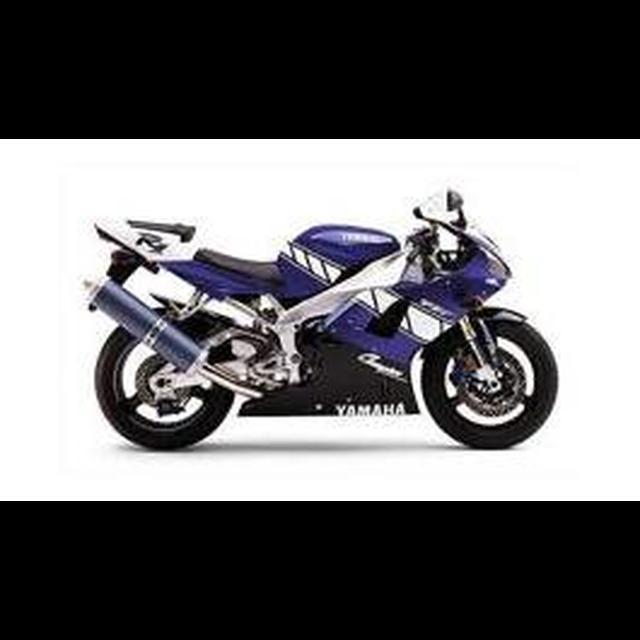motorcycle: (79, 181, 559, 457)
